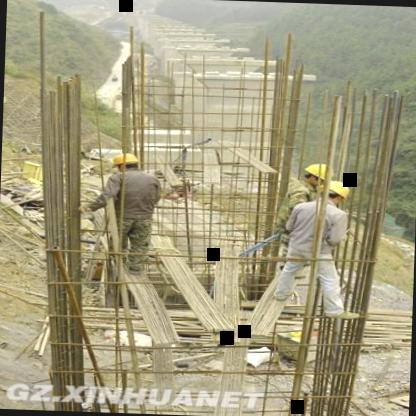helmet: (314, 180, 350, 208), (300, 162, 336, 188), (109, 152, 143, 176)
